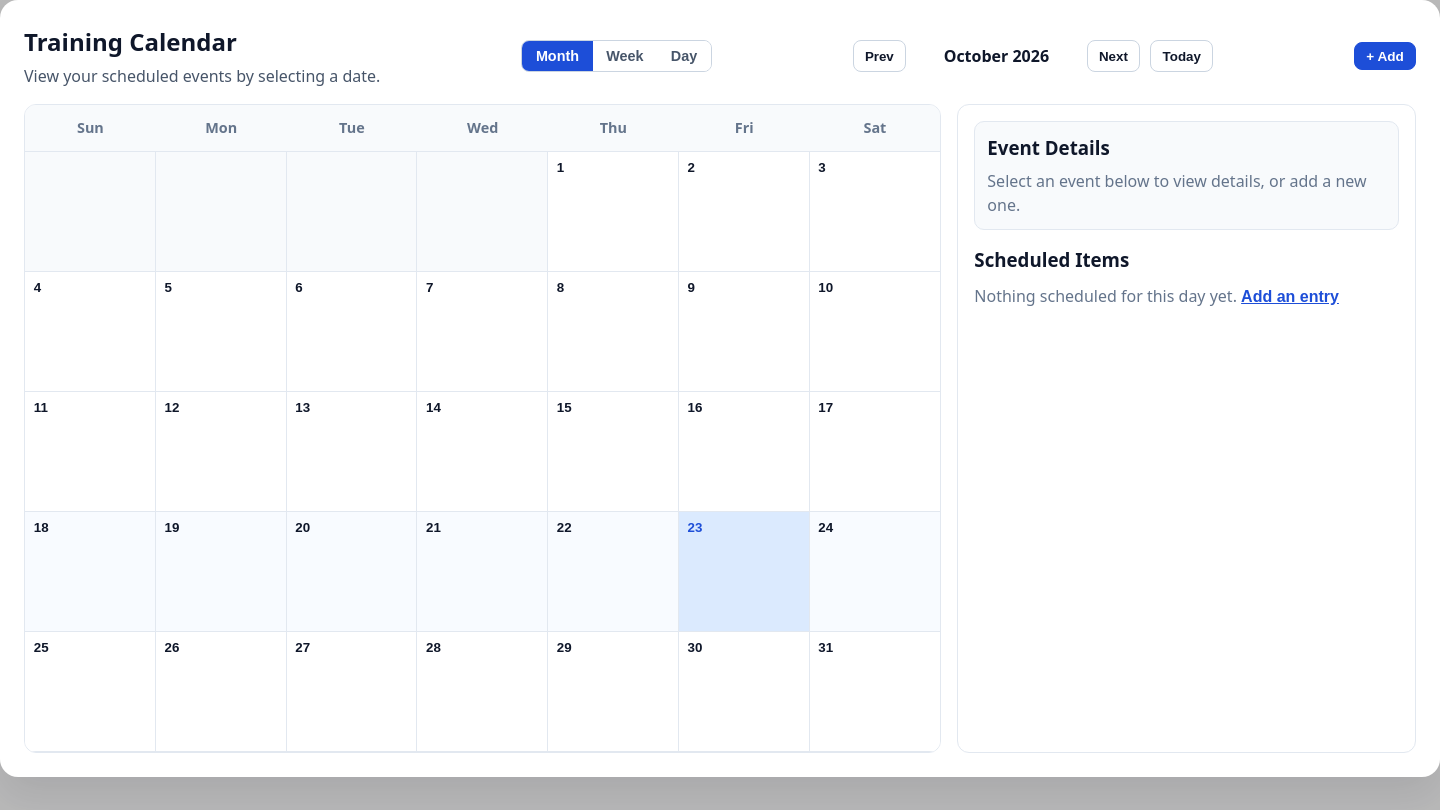
Test: Calendar Component › shows form error when workout name is empty on add
Step 1. Click the button "+ Add" → x=1385, y=56, box 1354,42 -> 1416,70
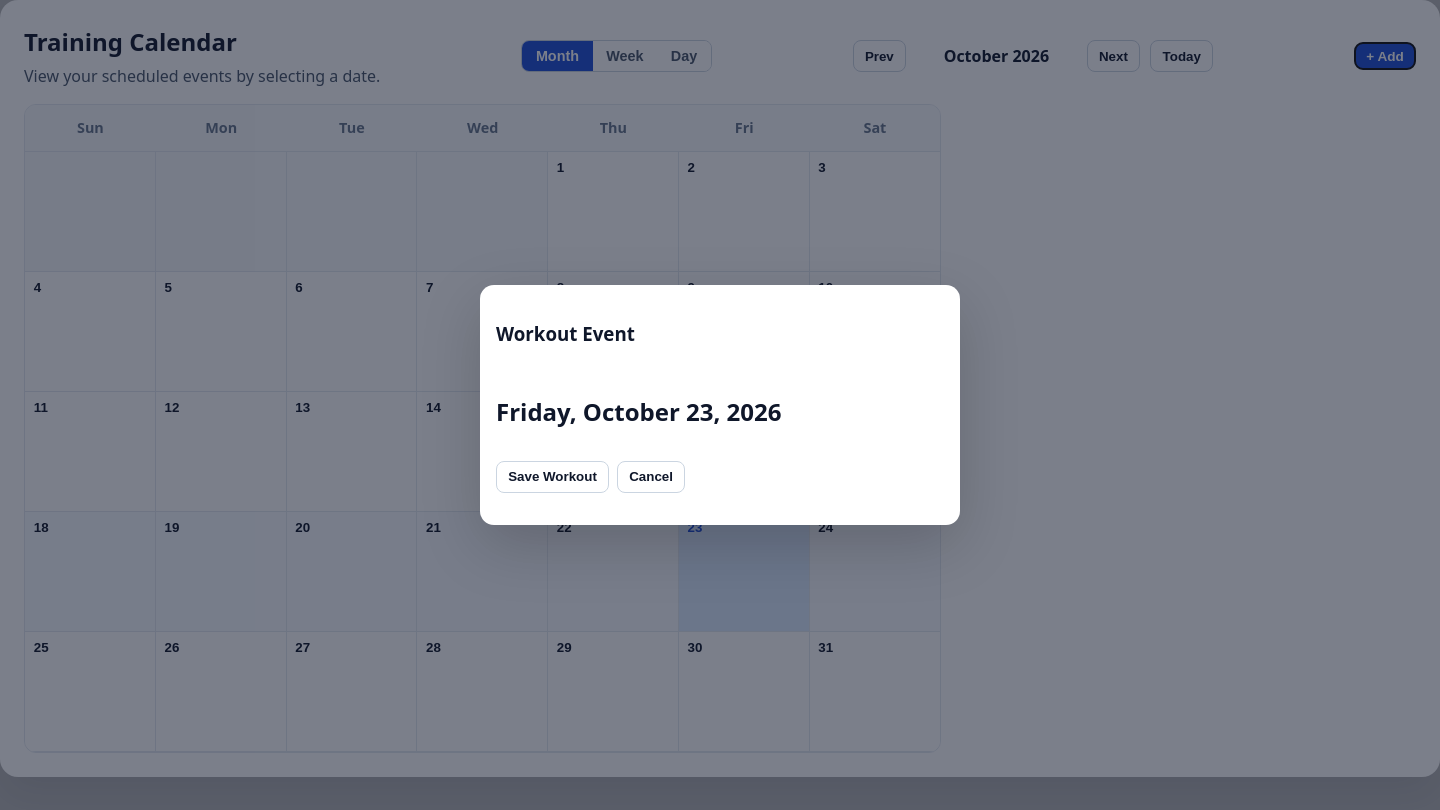
// submit the form directly to ensure the onSubmit handler fires
Step 2. Submit the form named "Add new workout", box 496,321 -> 782,493
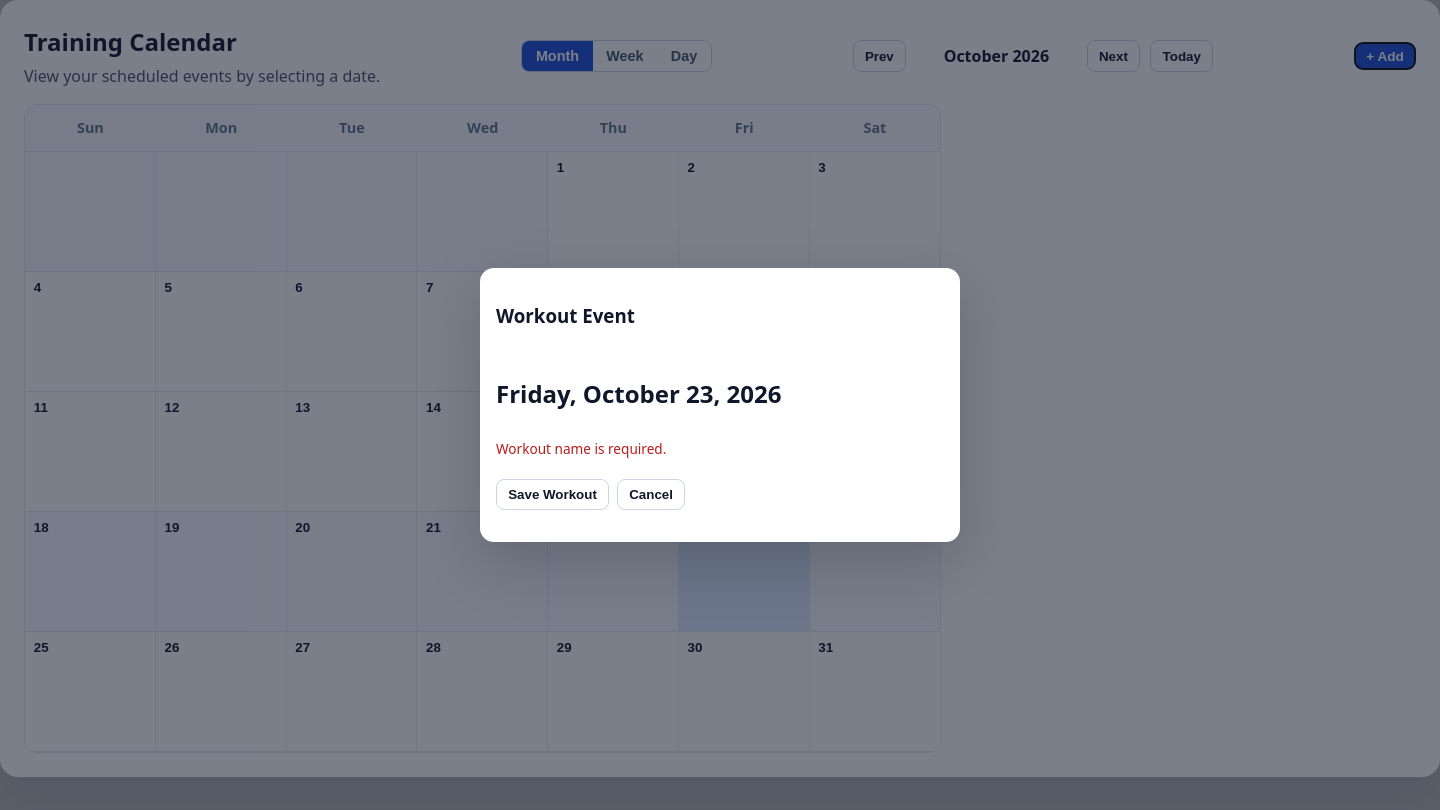
Expected: the text "Workout name is required." is shown, 496,439 -> 666,458
